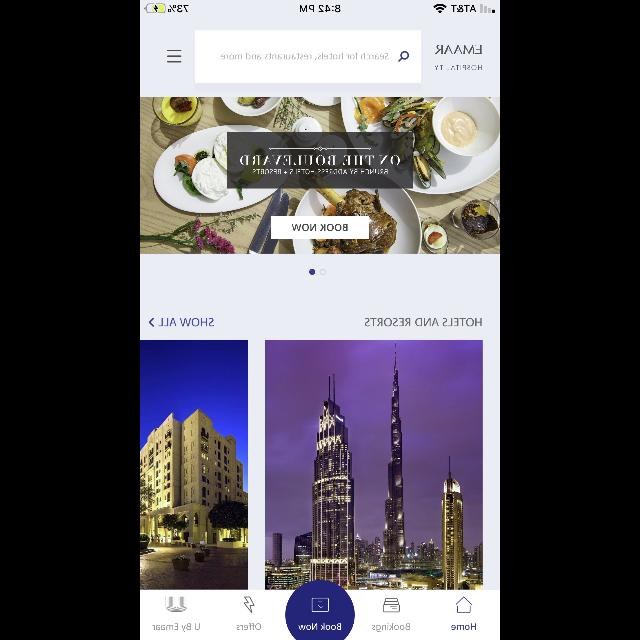icon: (456, 597, 472, 613), (312, 598, 328, 612), (167, 51, 181, 63), (398, 52, 408, 62), (148, 318, 154, 326)
image: (140, 98, 500, 254), (266, 340, 482, 590), (140, 340, 248, 590), (166, 596, 187, 612), (382, 598, 400, 612), (243, 596, 254, 614)
input: (195, 31, 421, 83)
pageindicator: (308, 269, 326, 275)
text: (220, 53, 388, 61), (365, 318, 481, 326), (435, 44, 481, 54), (158, 318, 214, 326), (372, 622, 410, 632), (153, 624, 200, 632), (298, 624, 342, 630), (434, 66, 482, 70), (451, 624, 475, 630), (237, 624, 261, 630)
textbutton: (272, 217, 368, 240)
uppertaskbar: (140, 0, 500, 14)
